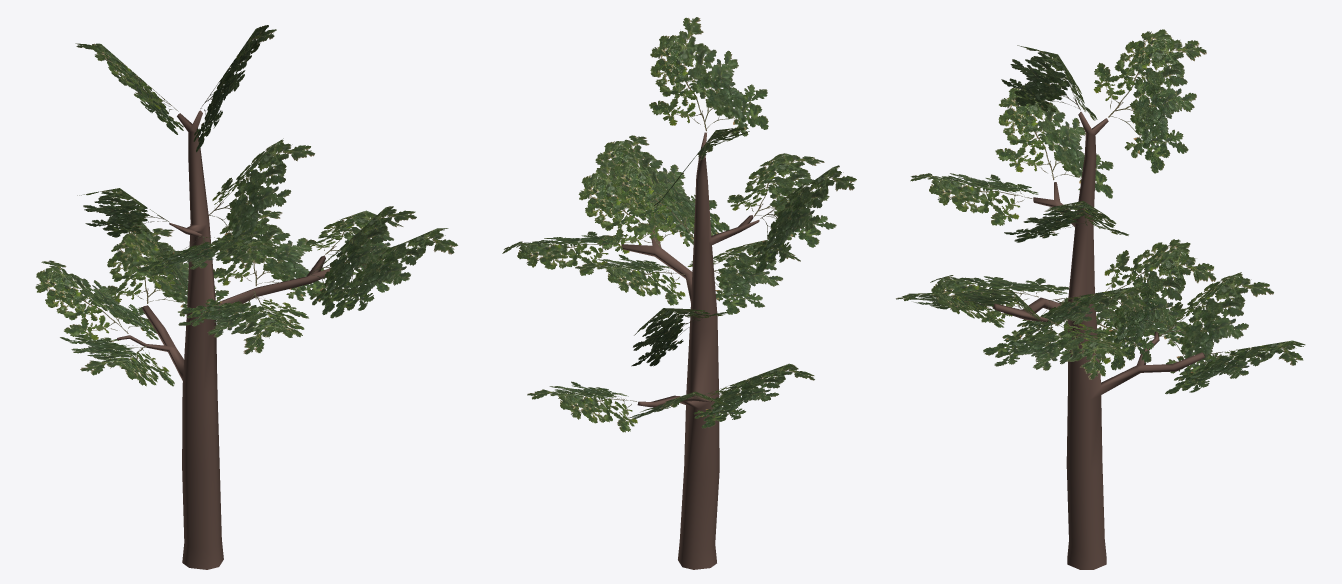
File: Tred.fbx
3 renders of one model, left to right at view 1: azimuth 30°, elevation 25°; view 2: azimuth 150°, elevation 25°; view 3: azimuth 270°, elevation 25°, orthographic. The views are drawn at different scales.
Visible parts, largest first — view 1: Cube, Plane.011, Plane.008, Plane.001, Plane.010, Plane.013, Plane.004, Plane.009, Plane.007, Plane.002, Plane.003, Plane.005 (+3 smaller); view 2: Cube, Plane.005, Plane.011, Plane.013, Plane.002, Plane.003, Plane.001, Plane.007, Plane, Plane.009, Plane.010, Plane.012 (+3 smaller); view 3: Cube, Plane.006, Plane.012, Plane.003, Plane.008, Plane, Plane.002, Plane.005, Plane.009, Plane.010, Plane.001, Plane.011 (+3 smaller).
Boxes of the visible parts, x1,y1,x2,y2 form: Cube: (117,110,329,569); Plane.011: (208,138,314,263); Plane.008: (35,260,158,340); Plane.001: (178,291,308,354); Plane.010: (213,210,331,300); Plane.013: (309,206,416,314); Plane.004: (330,228,457,318); Plane.009: (107,228,228,319); Plane.007: (60,334,174,386); Plane.002: (137,236,280,275); Plane.003: (77,188,175,237); Plane.005: (193,25,276,152); Cube: (622,132,759,569); Plane.005: (649,17,768,136); Plane.011: (611,148,729,241); Plane.013: (578,156,695,253); Plane.002: (727,153,836,247); Plane.003: (752,165,856,273); Plane.001: (687,240,800,314); Plane.007: (694,363,814,428); Plane: (502,231,629,275); Plane.009: (527,381,637,432); Plane.010: (575,254,685,305); Plane.012: (631,308,728,366); Cube: (992,112,1205,569); Plane.006: (1093,29,1206,173); Plane.012: (1097,239,1216,370); Plane.003: (995,82,1113,198); Plane.008: (1159,272,1273,387); Plane: (983,318,1125,379); Plane.002: (910,173,1038,225); Plane.005: (1001,45,1097,120); Plane.009: (1165,340,1305,394); Plane.010: (1015,286,1148,338); Plane.001: (930,275,1069,322); Plane.011: (1004,201,1128,242).
Bounding box in the file's own units: 20.22 × 29.91 × 21.93.
